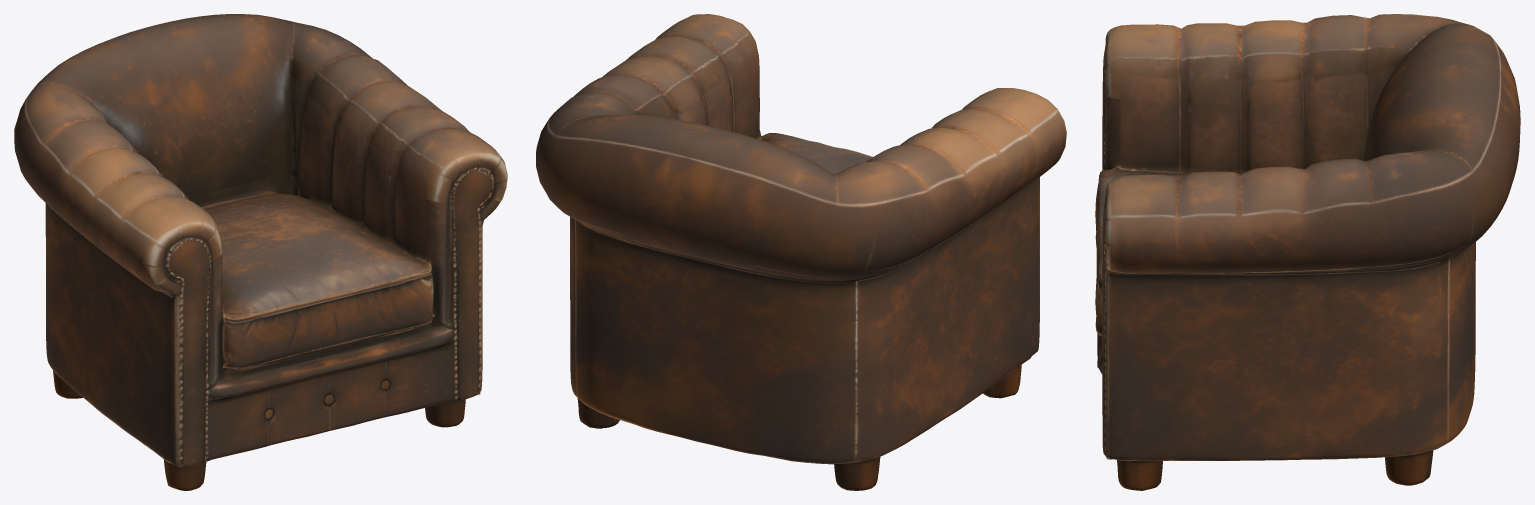
File: 1746172076163-leather_armchair.glb
3 renders of one model, left to right at view 1: azimuth 30°, elevation 25°; view 2: azimuth 150°, elevation 25°; view 3: azimuth 270°, elevation 25°, orthographic. The views are drawn at different scales.
Visible parts, largest first — view 1: model; view 2: model; view 3: model.
Part boxes in pixels (left/top/right/bottom): model: left=14, top=14, right=507, bottom=490; model: left=536, top=14, right=1066, bottom=490; model: left=1095, top=14, right=1520, bottom=490.
Size of the model in its own units: 1.91 by 1.57 by 1.73.
1 material, 1 textured.
